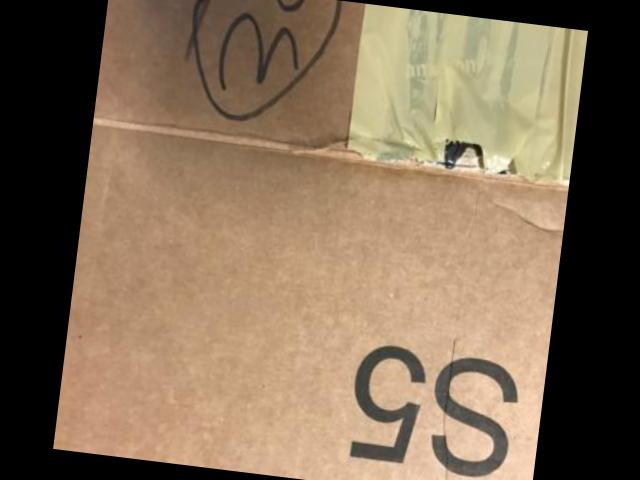cardboard paper: (53, 0, 568, 480), (53, 128, 568, 480), (93, 0, 587, 183)
